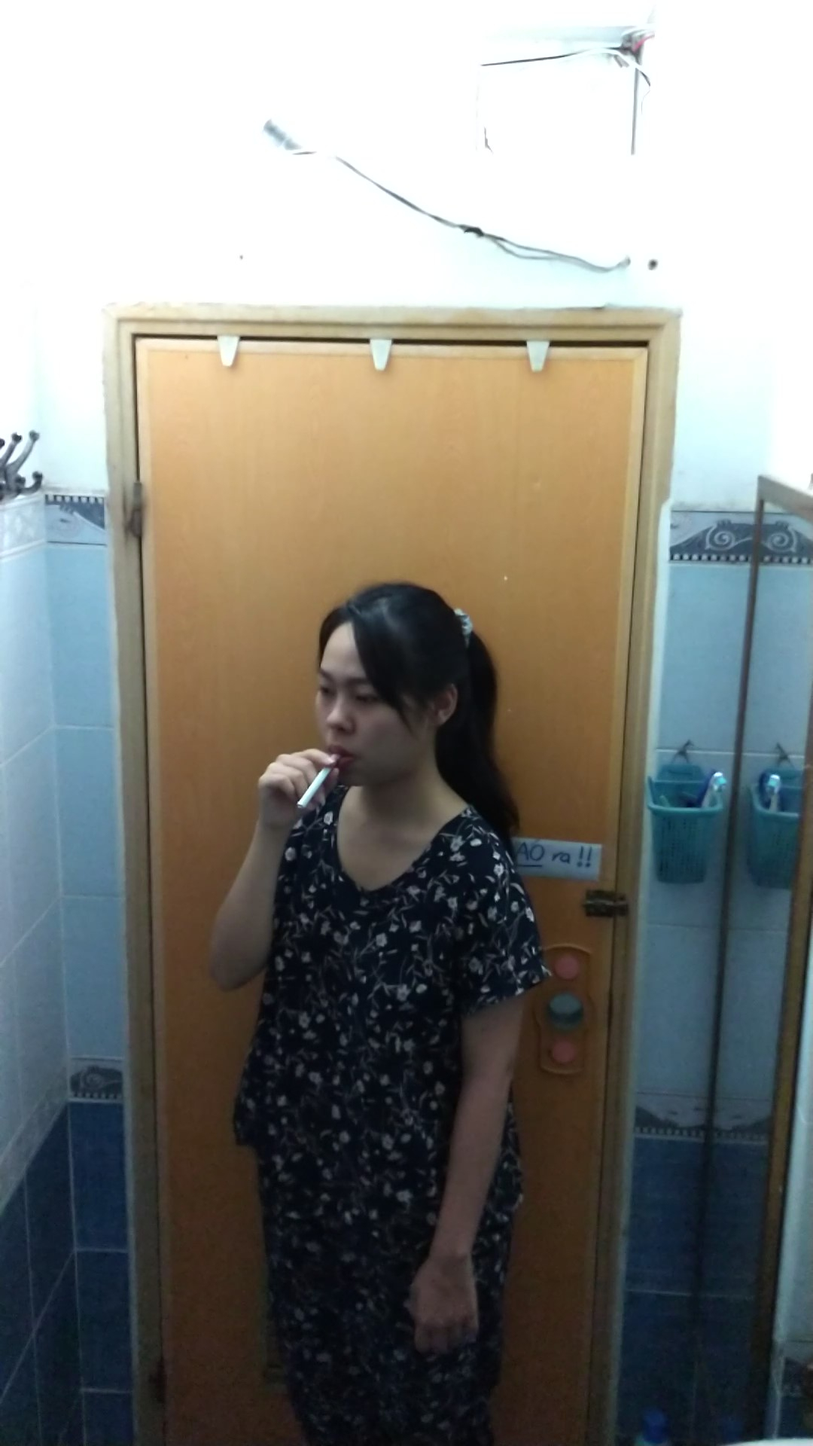cigarette: (294, 768, 331, 813)
person: (209, 567, 575, 1437)
